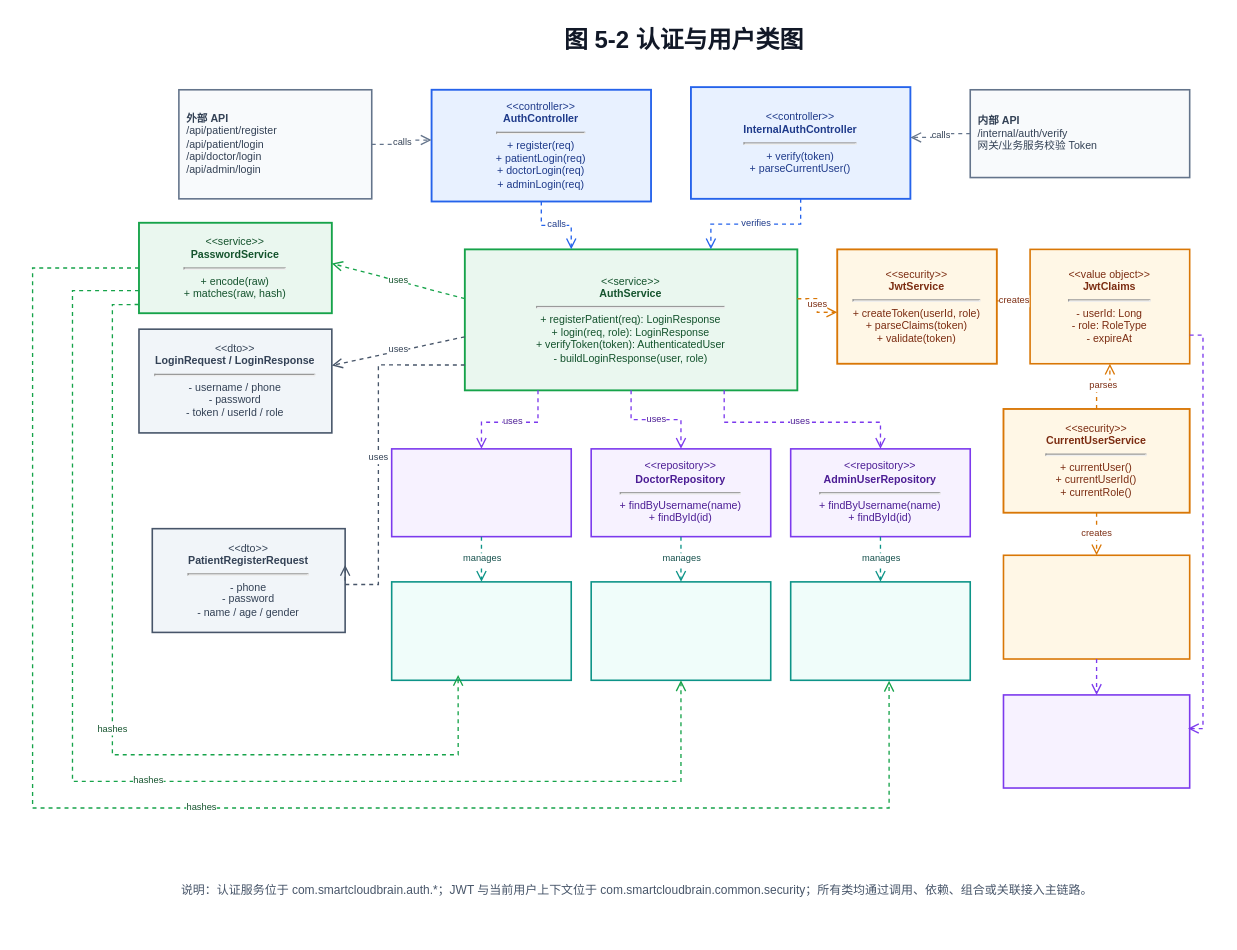
This 1237x950 diagram has some shape labels left out. The centre of each missing label's shape, as x and y in pixels:
<<entity>> AdminUser - id: Long - username: String - passwordHash: String: (x=879, y=630)
<<entity>> Doctor - id: Long - username: String - passwordHash: String: (x=680, y=630)
<<entity>> Patient - id: Long - phone: String - passwordHash: String: (x=480, y=630)
<<enum>> RoleType PATIENT DOCTOR ADMIN: (x=1096, y=740)
<<repository>> PatientRepository + findByPhone(phone) + save(patient): (x=480, y=492)
<<value object>> AuthenticatedUser - userId: Long - role: RoleType - displayName: (x=1096, y=606)
